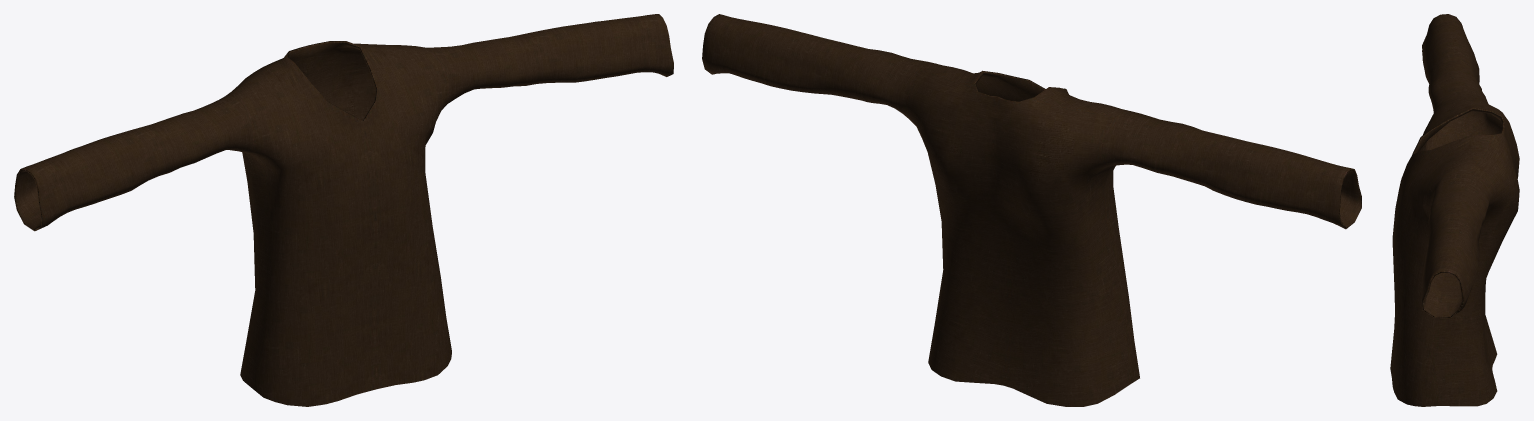
Rendered from shirt.glb.
3 renders of one model, left to right at view 1: azimuth 30°, elevation 25°; view 2: azimuth 150°, elevation 25°; view 3: azimuth 270°, elevation 25°, orthographic. The views are drawn at different scales.
Visible parts, largest first — view 1: shirt_export; view 2: shirt_export; view 3: shirt_export.
Part boxes in pixels (x1,y1,x2,y2): shirt_export: (14, 14, 673, 406); shirt_export: (702, 14, 1361, 406); shirt_export: (1390, 14, 1519, 406).
Size of the model in its own units: 1.01 by 0.4625 by 0.2144.
Materials: 1 (1 with a texture image).
